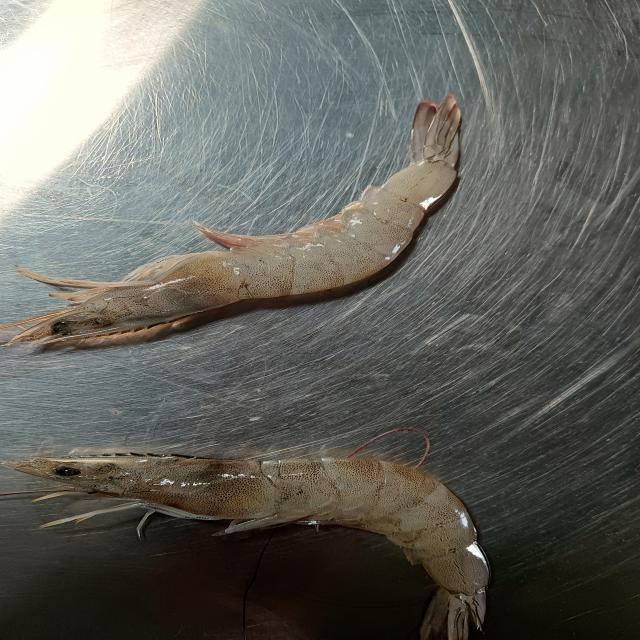shrimp: (4, 93, 462, 346), (5, 456, 489, 640)
